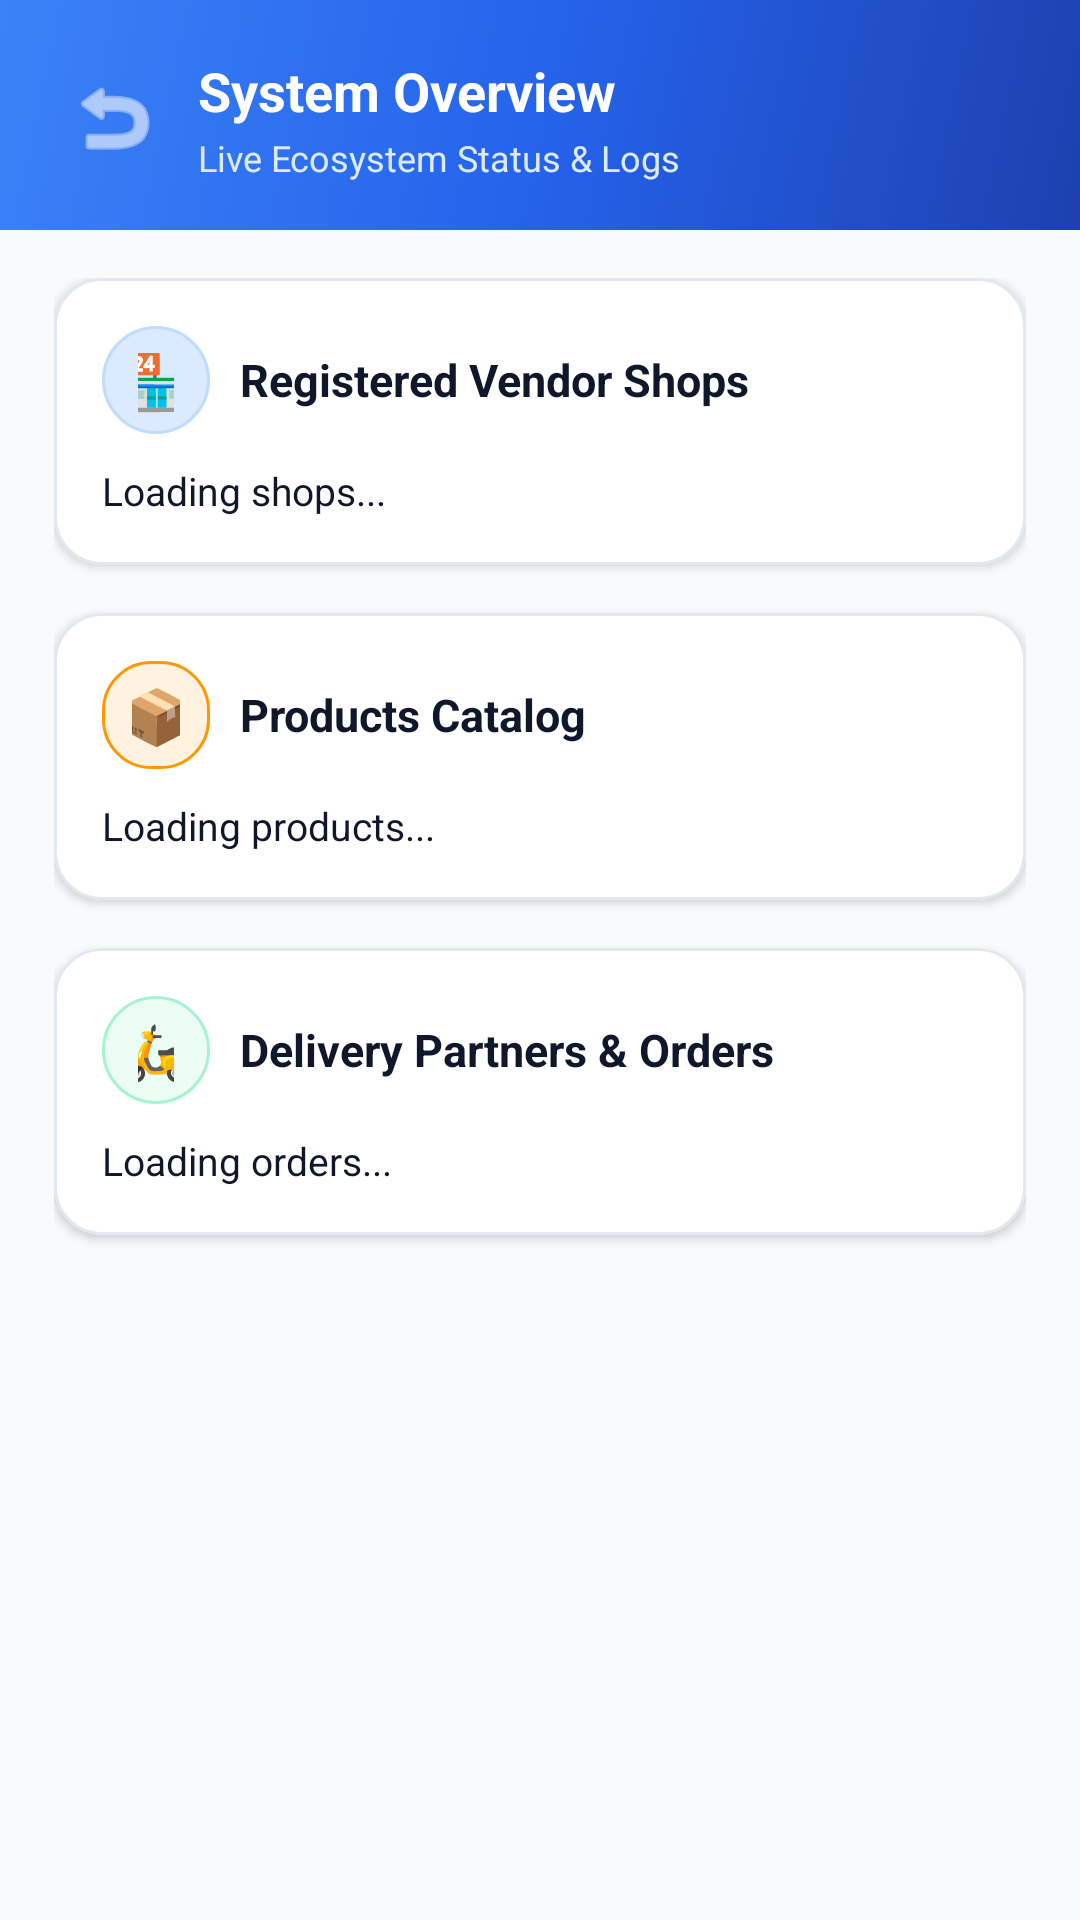

Where to tap for icons on this 1080w x 1920h app screen, as (x,y):
Back: (115,118)
